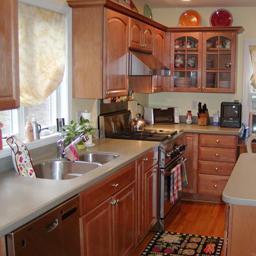Electrodomestico: (10, 198, 82, 253), (157, 142, 184, 230)
Lavaplatos: (20, 141, 122, 182)
